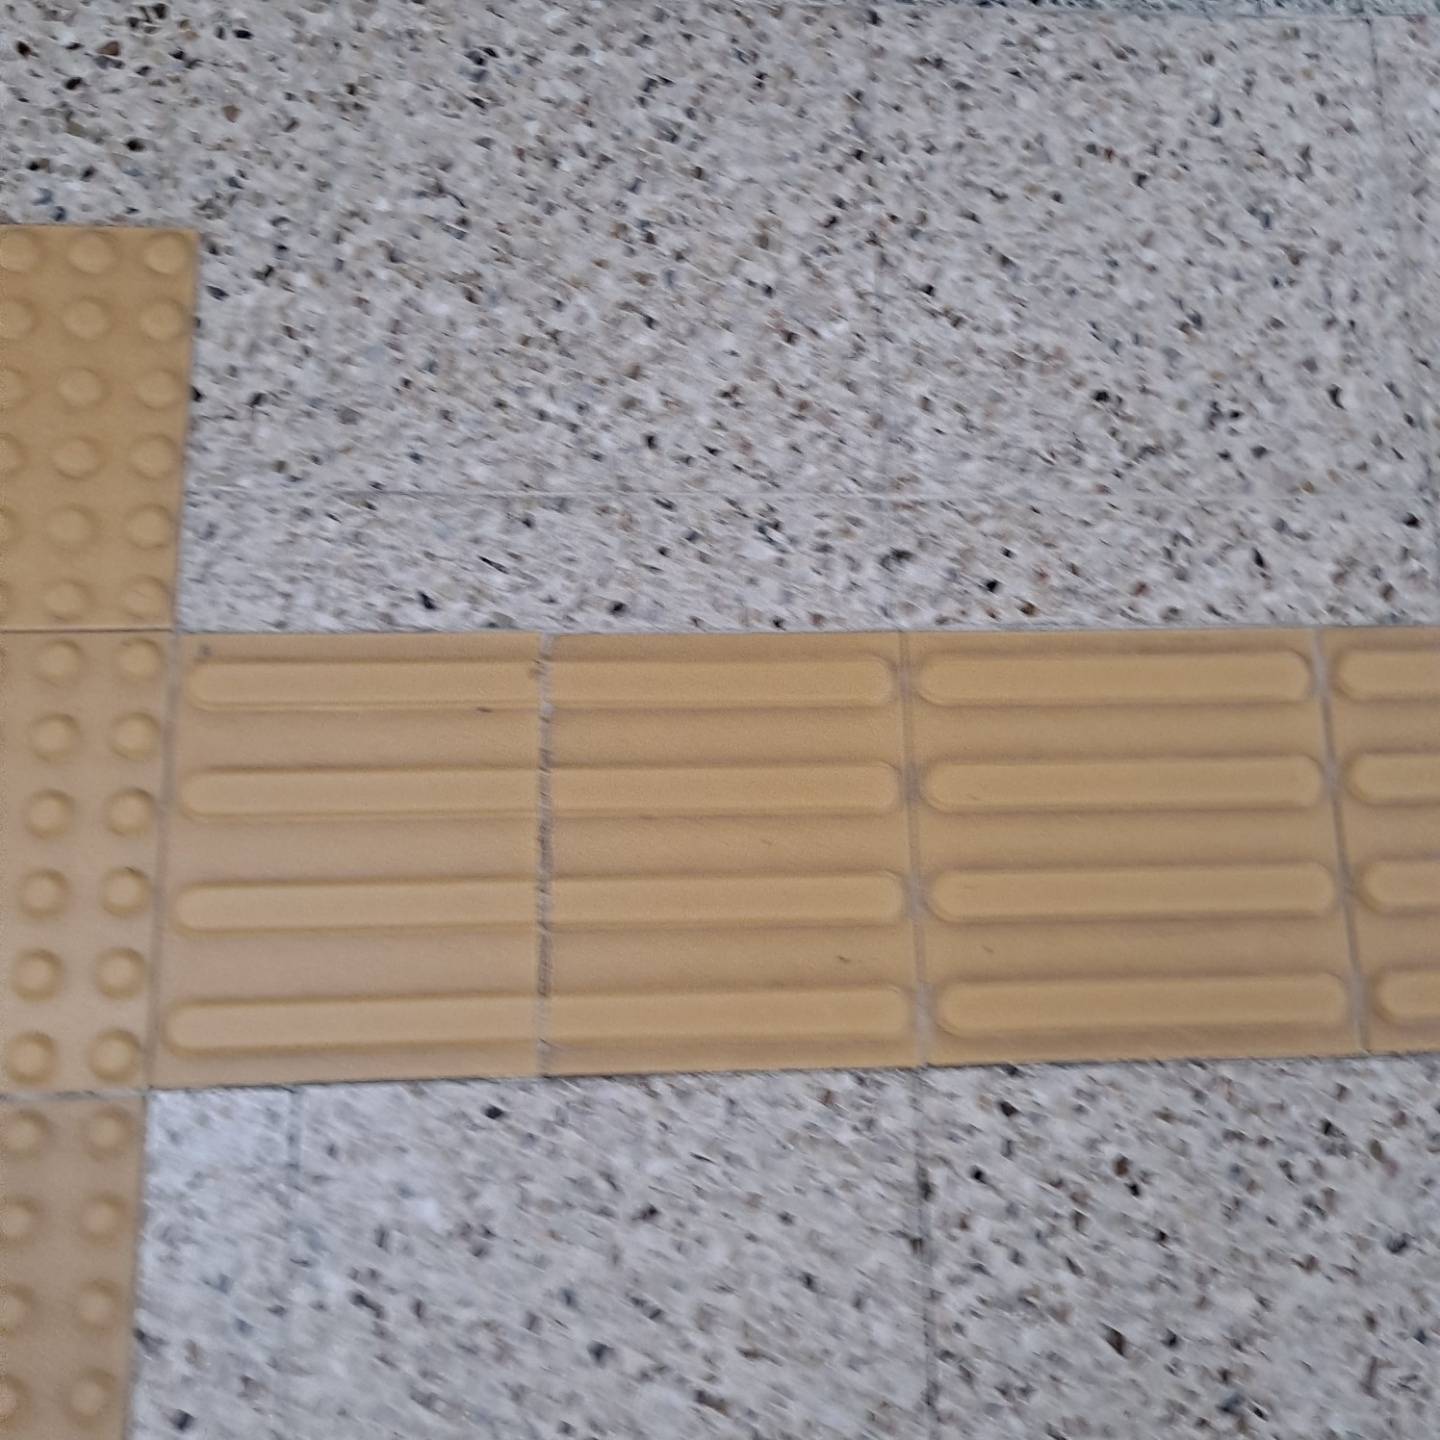guideBlock: (177, 644, 916, 1048), (931, 667, 1366, 1023)
